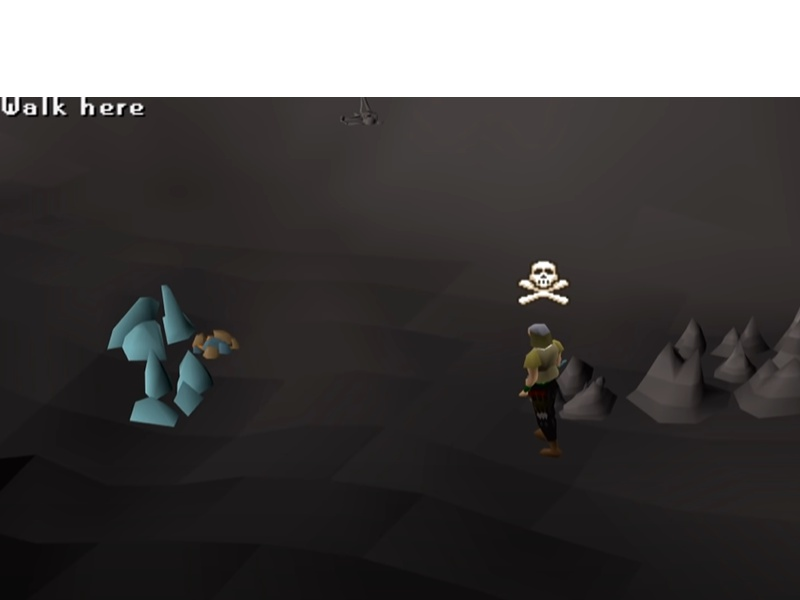rune: (102, 282, 202, 362), (128, 348, 214, 428)
